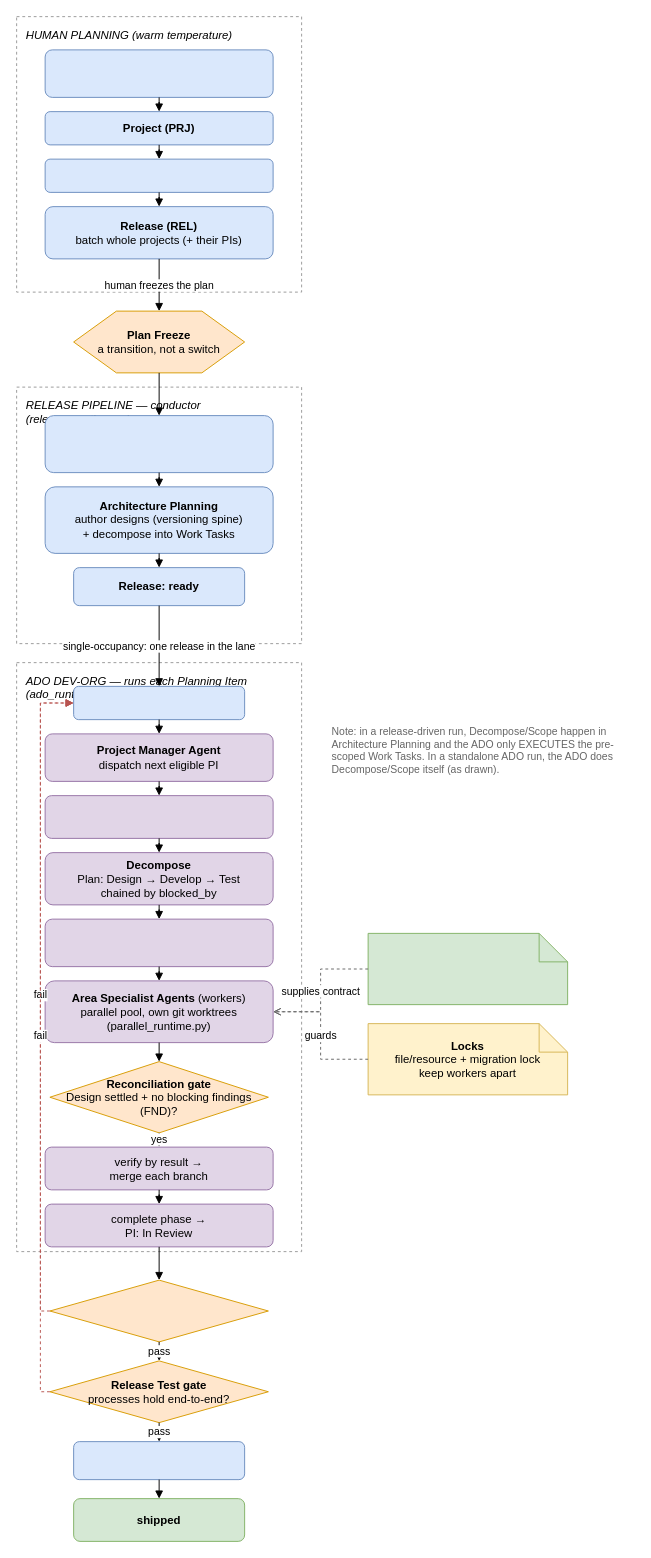
Some shapes in this 651 by 1558 pixel diagram are drawn without their labels. The shapes that lost their labels are listed below. From the top down, each one's box as (x1, y1, x2, y2) in pixels, then its label:
(44, 49, 273, 97): Requirement (human-approved)
(44, 158, 273, 192): Planning Items (PI)
(44, 415, 273, 473): Reconciliation merge all demands → find conflicts (reconciliation engine)
(73, 685, 245, 720): Development lane
(44, 795, 273, 838): PI Lead Agent open each phase in order
(44, 918, 273, 967): Phase Specialist Agent scope phase → Work Tasks
(367, 932, 568, 1005): Agent Profile Registry profile + skills + rules + learnings → contract
(49, 1279, 268, 1342): Release QA gate design covers every requirement?
(73, 1441, 245, 1480): deployment
